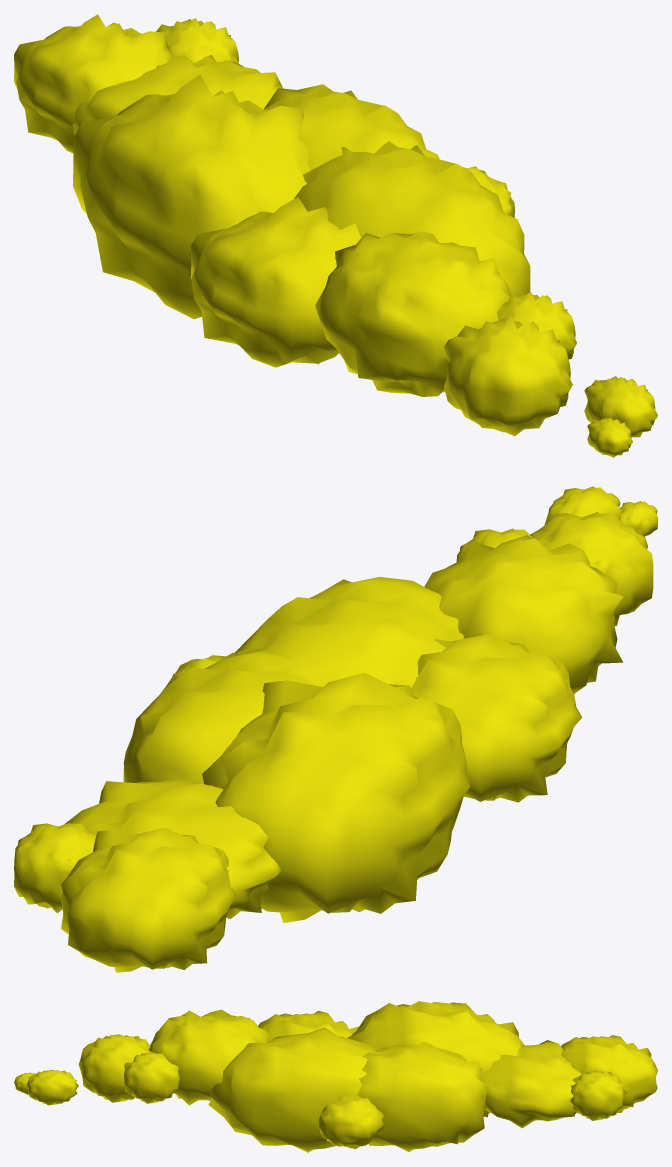
The model's file is CLOUD_TRUE_BIG.fbx.
3 renders of one model, top to bottom at view 1: azimuth 30°, elevation 25°; view 2: azimuth 150°, elevation 25°; view 3: azimuth 270°, elevation 25°, orthographic. The views are drawn at different scales.
Parts seen in each view (by area): view 1: CLOUD_BASE.025; view 2: CLOUD_BASE.025; view 3: CLOUD_BASE.025.
Part boxes in pixels (x1,y1,x2,y2): CLOUD_BASE.025: (14, 14, 657, 457); CLOUD_BASE.025: (14, 486, 657, 972); CLOUD_BASE.025: (14, 1001, 657, 1152).
Bounding box in the file's own units: 566 × 321 × 1589.
